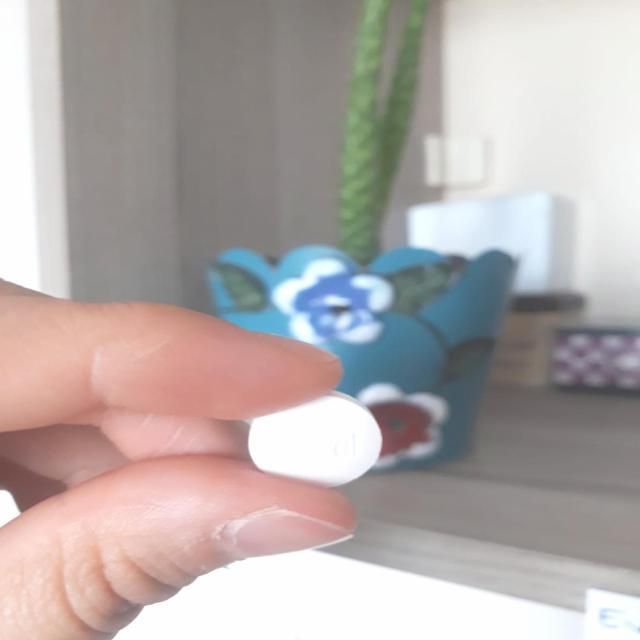pill: (241, 386, 384, 491)
